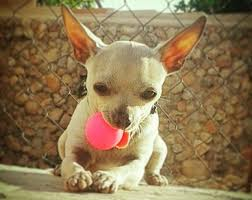chihuahua: (45, 6, 214, 195)
